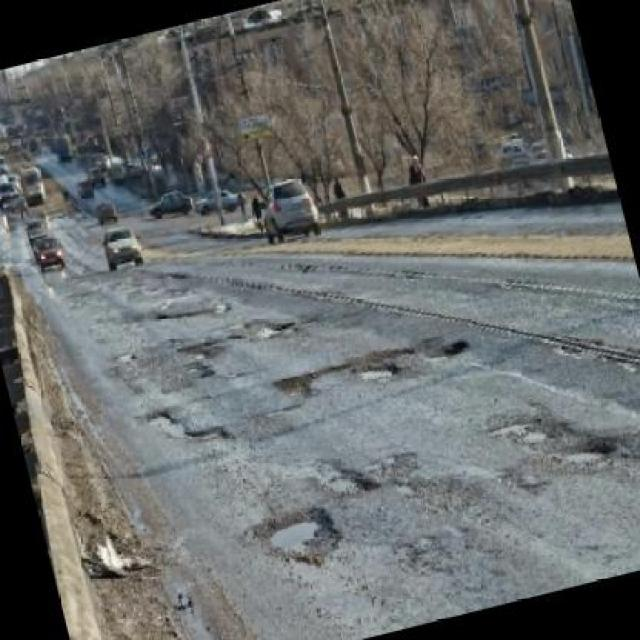pothole: (243, 488, 345, 580), (132, 384, 237, 470), (411, 325, 472, 370), (346, 350, 405, 396), (234, 305, 297, 346)
